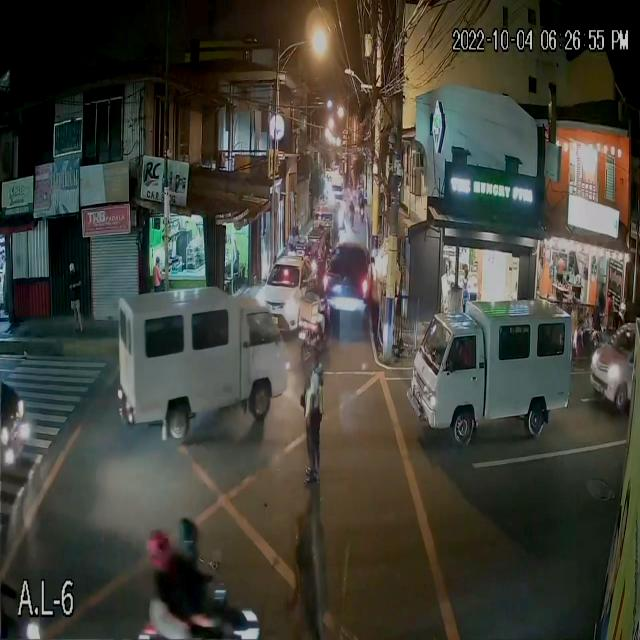Full-Faced: (142, 523, 172, 565), (179, 515, 201, 561)
